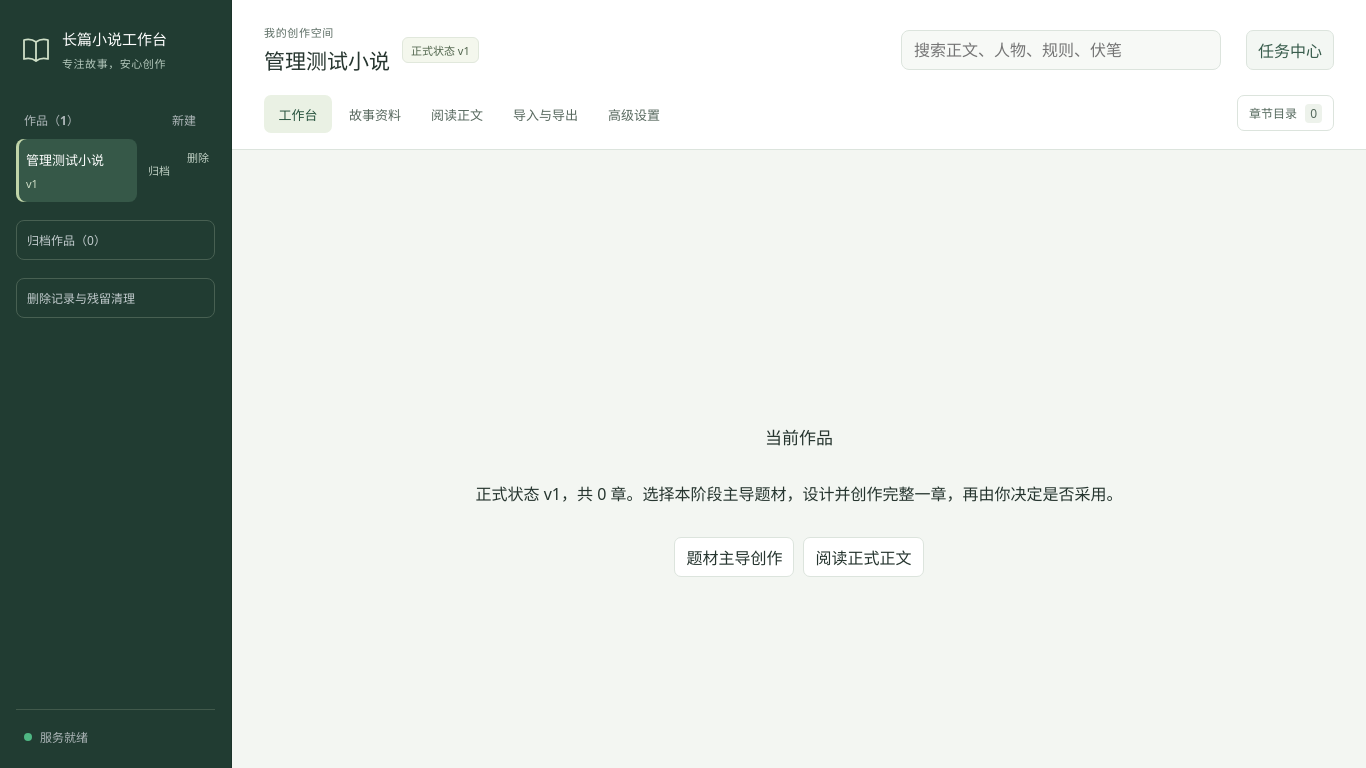
Test: management navigation › protects unsaved management edits during navigation
Check: the heading "当前作品" is shown, box x1=765 y1=424 x2=833 y2=448
Step 1. Click the button "故事资料" → coordinates (375, 114), box x1=336 y1=95 x2=414 y2=133
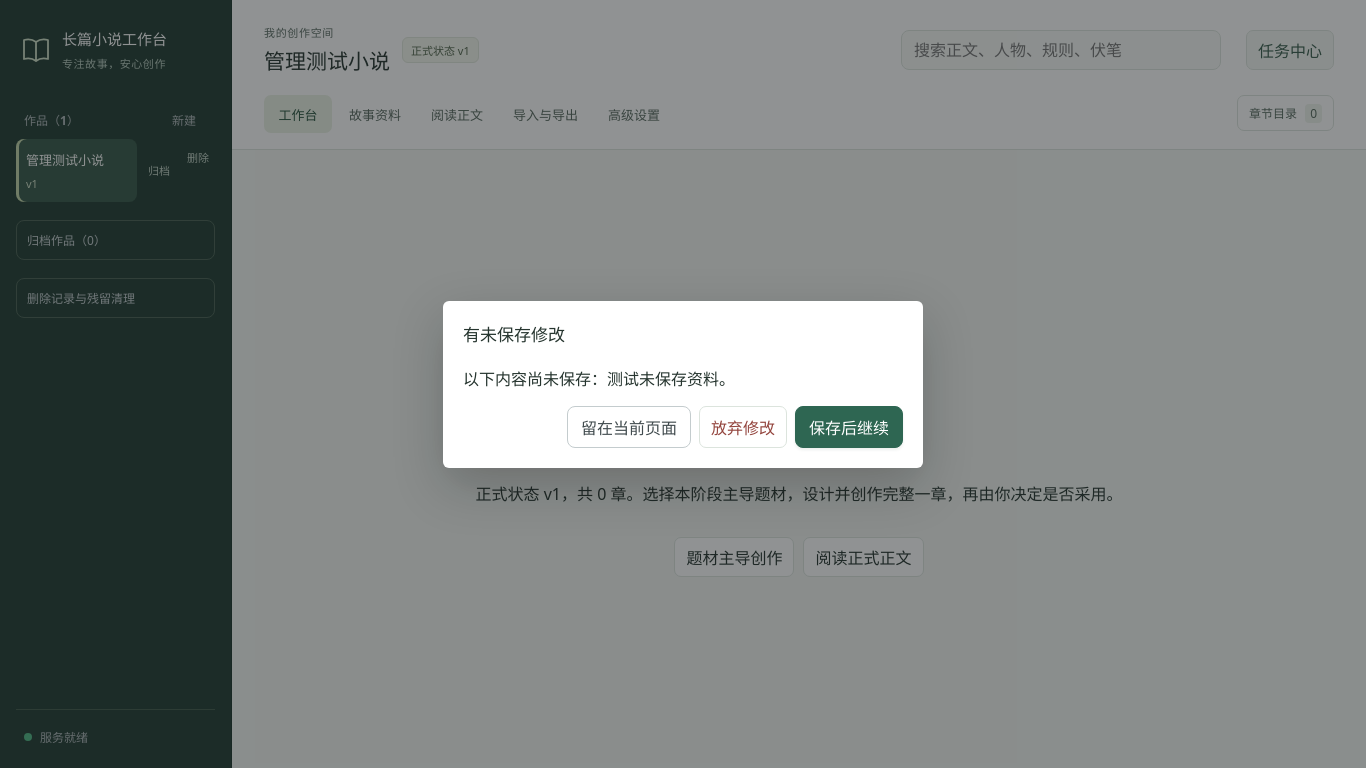
Check: the dialog is shown, box x1=443 y1=300 x2=923 y2=468
